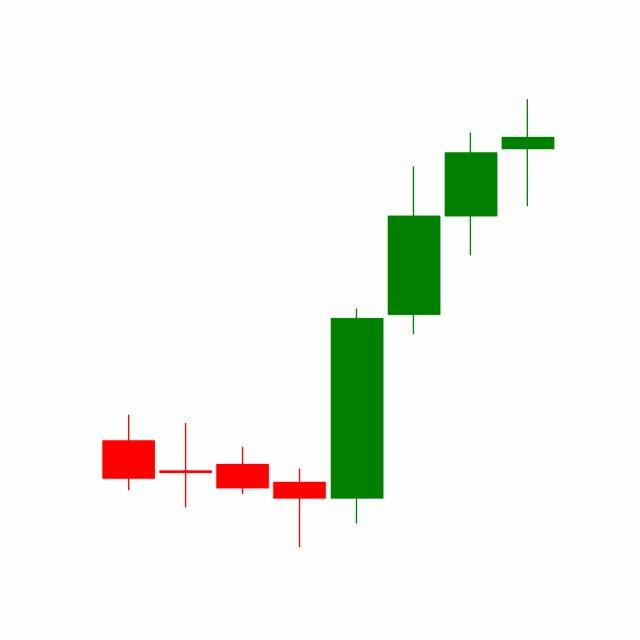Advance Block: (328, 129, 500, 529)
